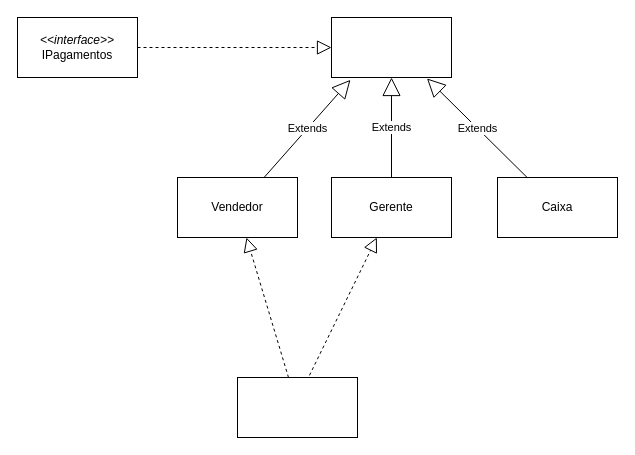
This 635x455 diagram has some shape labels left out. The centre of each missing label's shape, as x and y in pixels:
<<interface>> IAutenticavel: point 297,407
Funcionario: point 391,47
